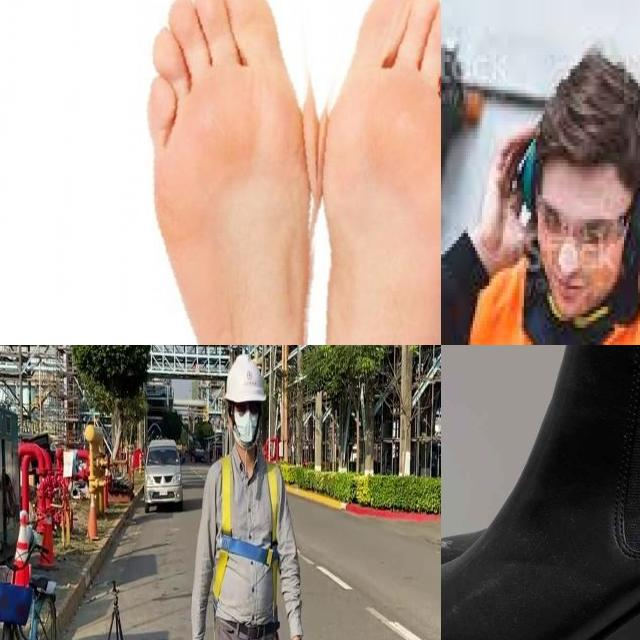Barefoots: (129, 0, 317, 345), (312, 0, 441, 345)
Ear-protection: (517, 139, 538, 205), (628, 166, 640, 261)
Harness: (212, 455, 283, 618)
Sandals: (441, 345, 640, 640)
glasses: (526, 195, 634, 247)
person: (441, 51, 640, 345)
